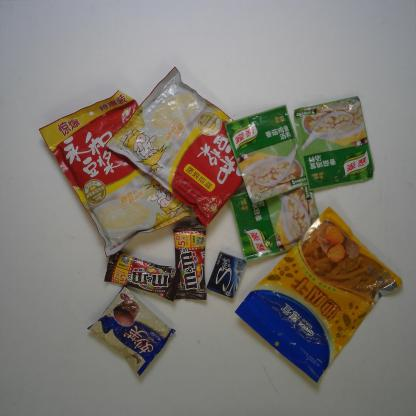Chocolate: (101, 251, 183, 302), (167, 221, 212, 303)
Dessert: (83, 282, 179, 378)
Dried Fruit: (232, 205, 405, 388)
Gum: (204, 248, 247, 299)
Instant Drink: (38, 87, 194, 255), (102, 65, 260, 230)
Seasoner: (222, 103, 310, 205), (289, 93, 374, 191), (228, 184, 320, 264)
